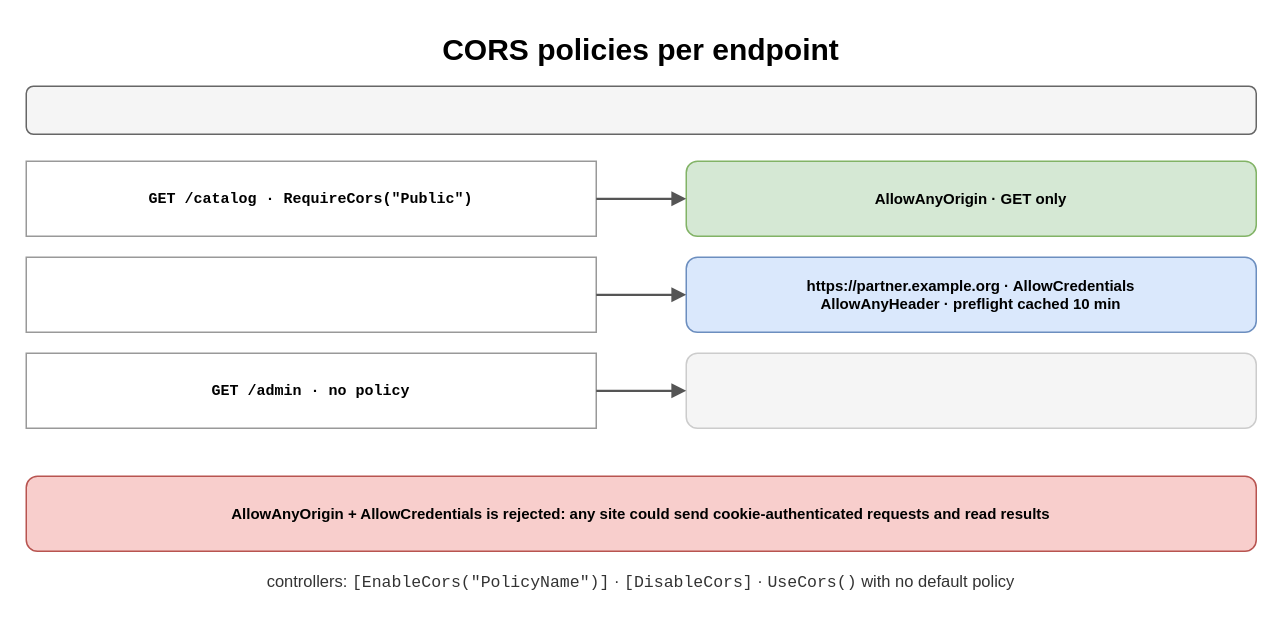
Some shapes in this 1283 by 624 pixel diagram are drawn without their labels. Here are the shapes that lost their labels. From the top down, the centre of each, then its label:
(x=640, y=109): Named policies on selected endpoints keep public and partner APIs apart
(x=310, y=294): POST /partner/holds · RequireCors("Partner")
(x=970, y=390): no CORS headers
